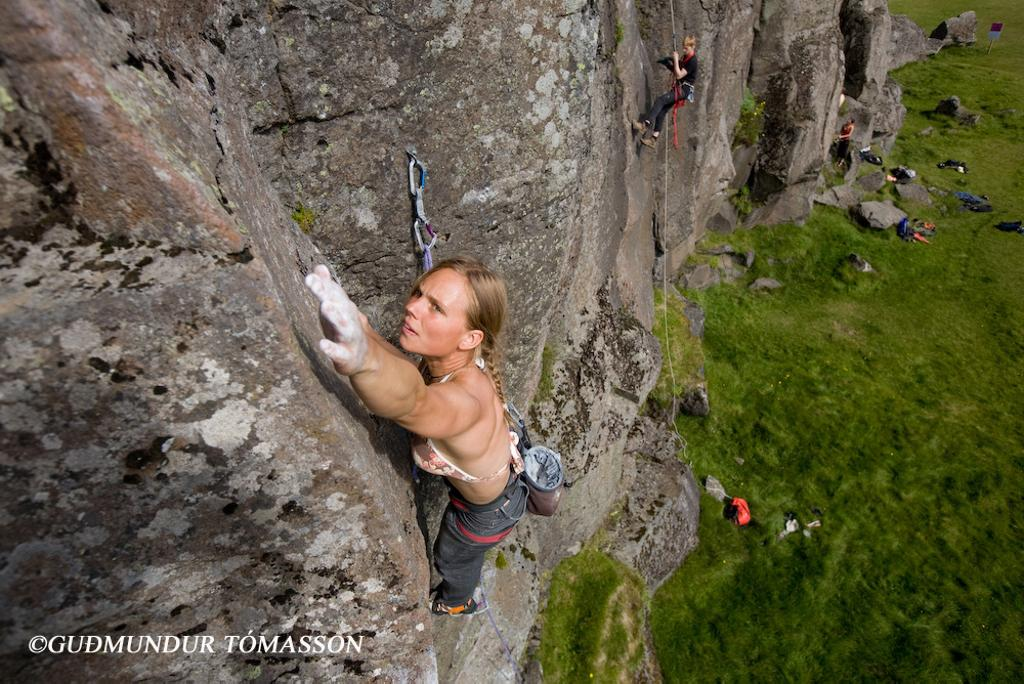face: (402, 272, 468, 360), (684, 38, 693, 58)
